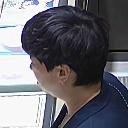head: (36, 36, 90, 90)
